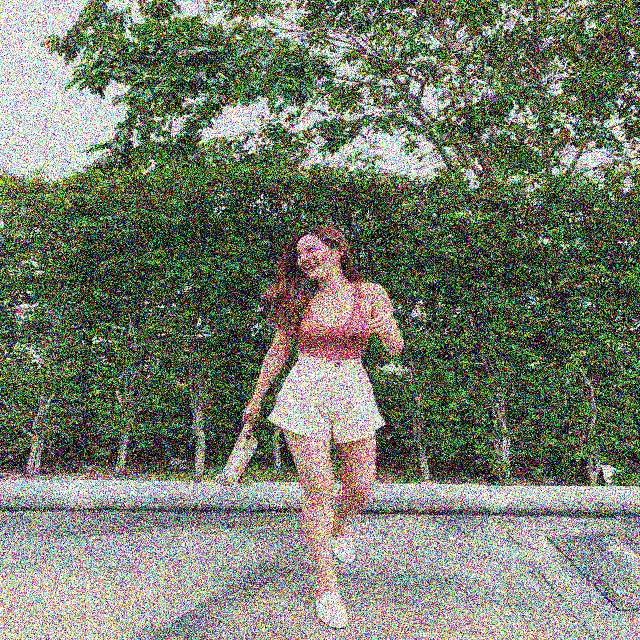Shorts: (267, 355, 388, 533)
Sleeveless: (370, 284, 390, 306)
low_neckline: (295, 281, 370, 360)
